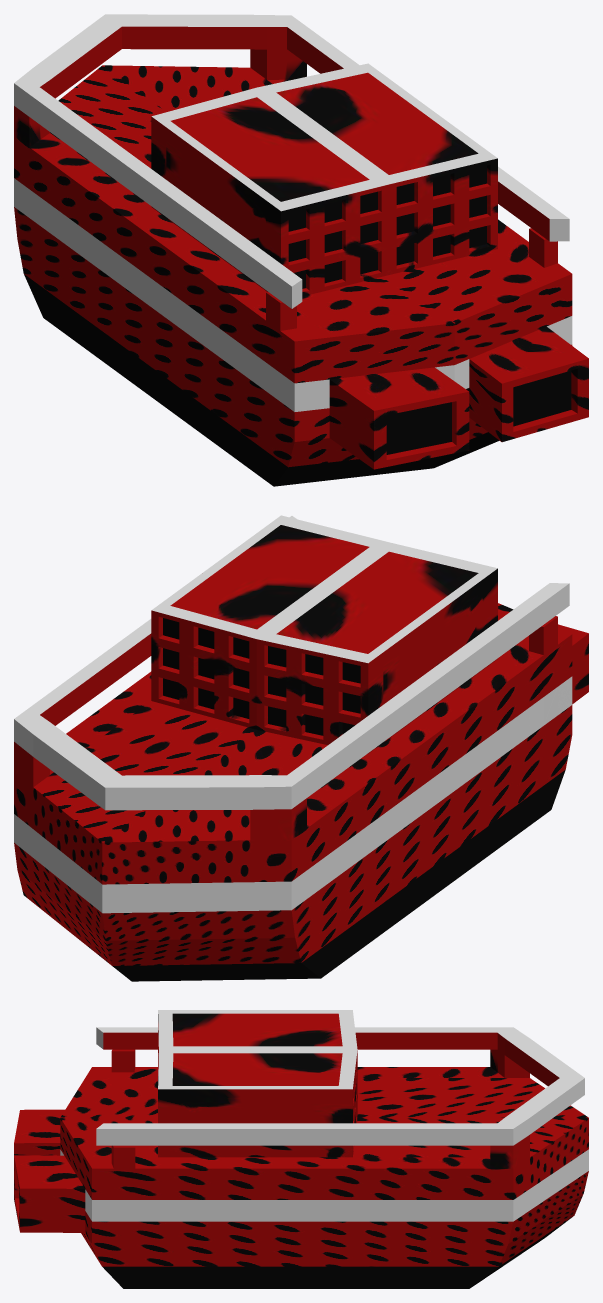
File: RED_Destroyer.fbx
3 views of the same model, one above another, from view 1: azimuth 30°, elevation 25°; view 2: azimuth 150°, elevation 25°; view 3: azimuth 270°, elevation 25° (orthographic). The views are drawn at different scales.
Visible parts, largest first — view 1: Cube; view 2: Cube; view 3: Cube.
Boxes of the visible parts, <box> form: Cube: <box>14,14,588,486</box>; Cube: <box>14,515,588,981</box>; Cube: <box>14,1010,588,1288</box>.
Bounding box in the file's own units: 362 × 313 × 866.
